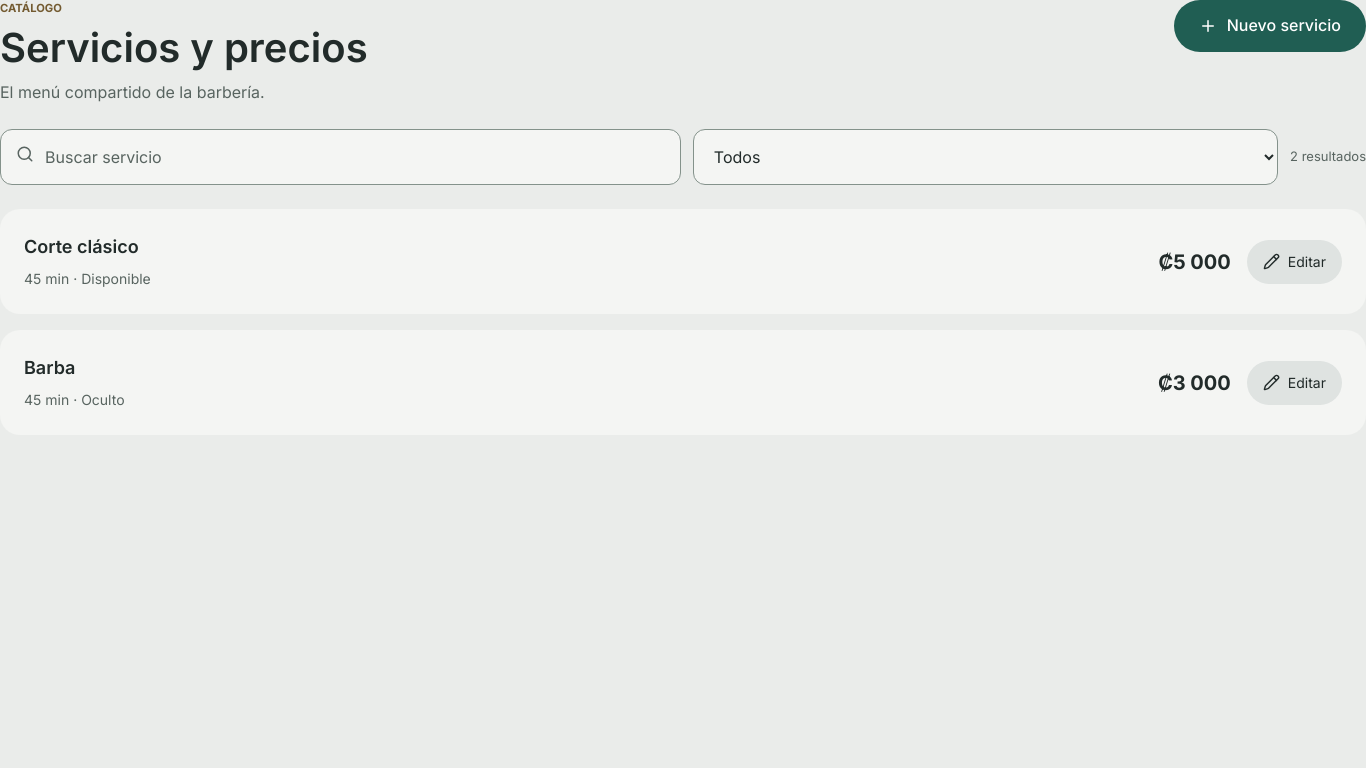
Scenario: gestión del panel › filtra el catálogo sin tildes y abre la edición en la misma vista
The image size is (1366, 768).
In the search field: (340, 157) [0,129,681,185], type "clasico"
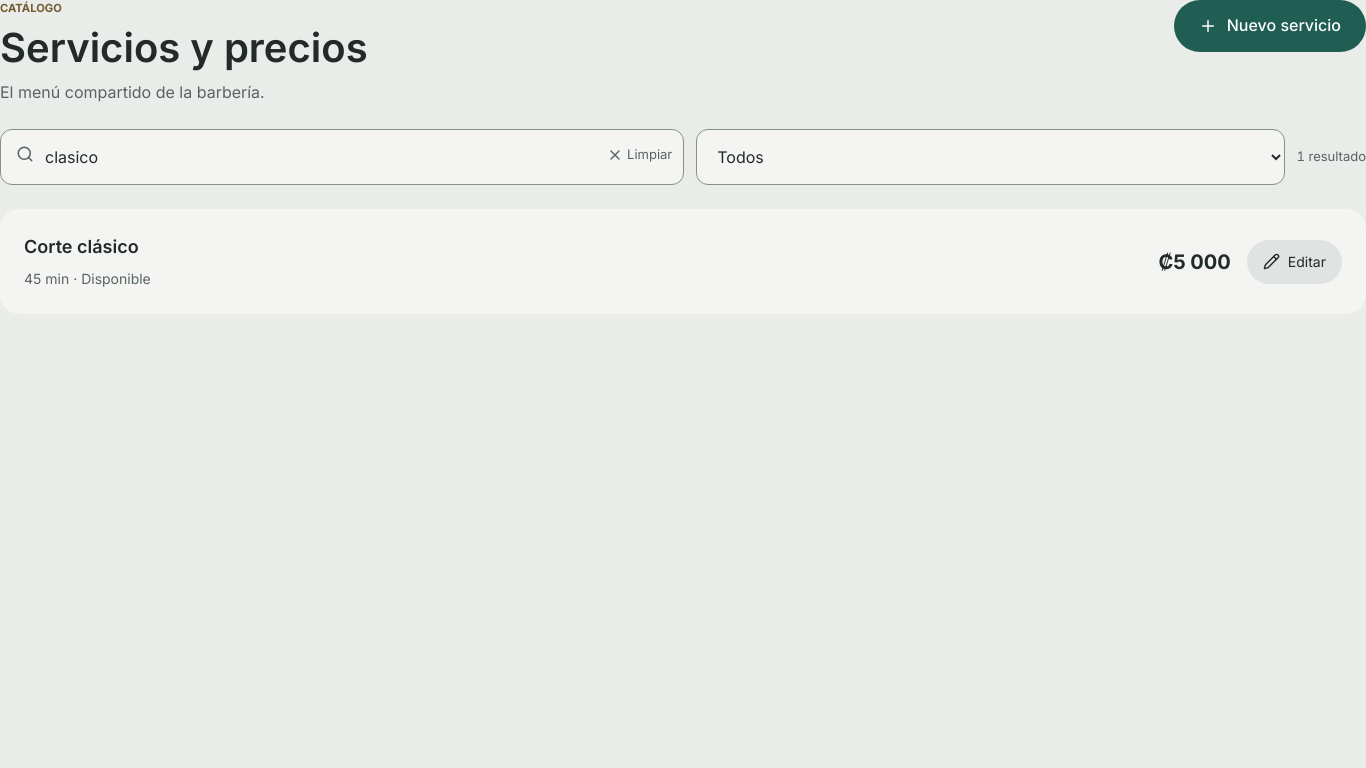
Expected: the heading "Barba" is gone
Click the button named "Editar Corte clásico": click(1294, 262) [1247,240,1342,284]
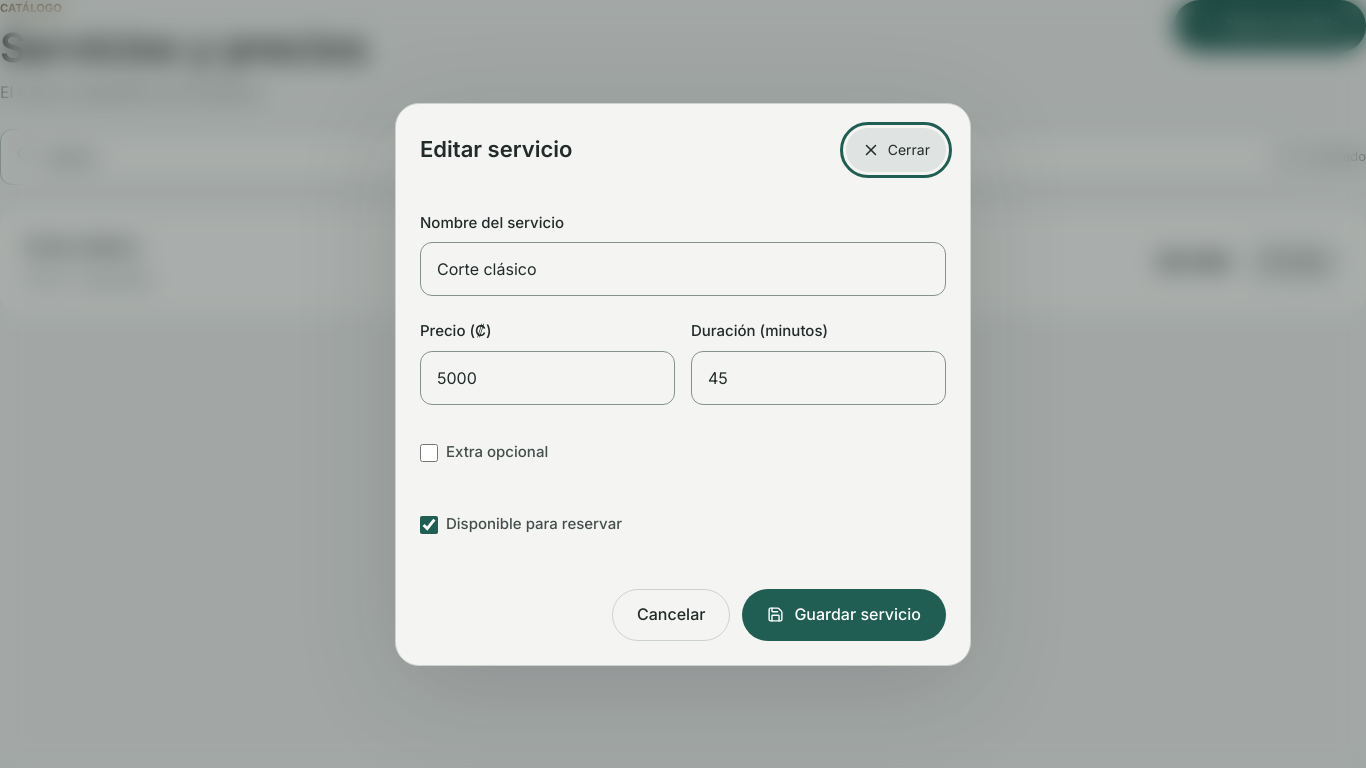
Expected: the dialog "Editar servicio" is shown, [395,102,971,666]
Expected: the field labelled "Nombre del servicio" holds "Corte clásico", [420,242,946,296]
Click the button named "Cerrar ventana": click(896, 150) [846,128,946,172]
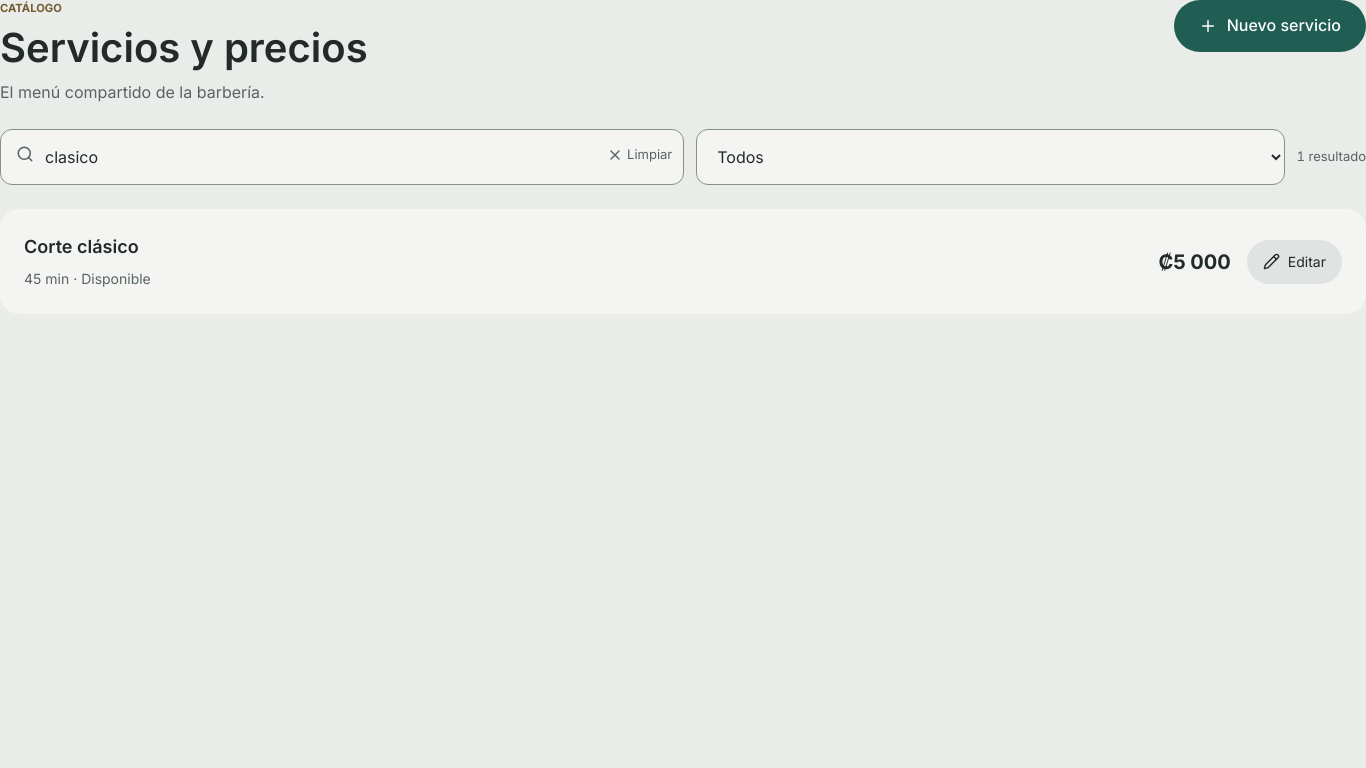
Expected: the dialog is gone
